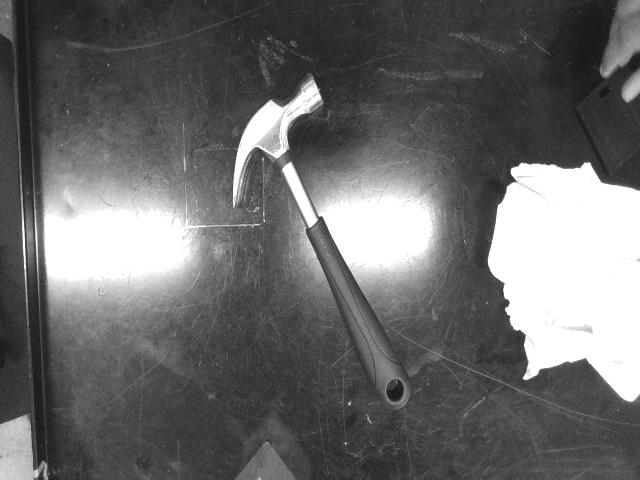Hammer: (232, 73, 410, 408)
